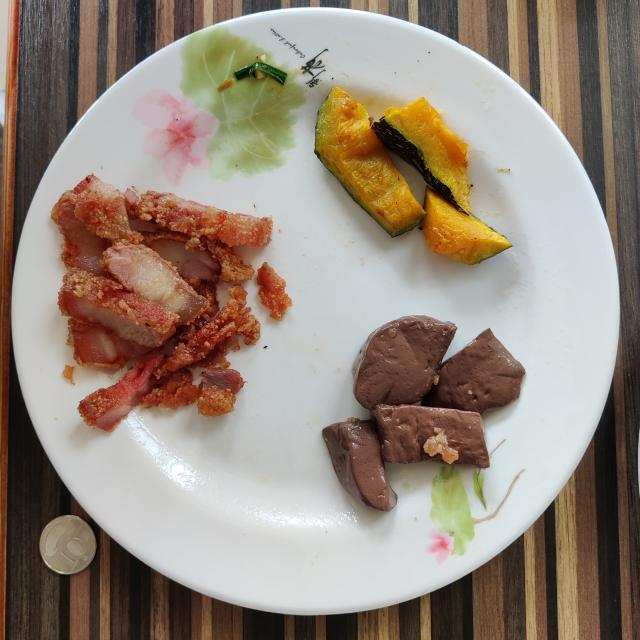coin: (39, 515, 96, 575)
pig blood curd: (322, 316, 525, 511)
pumpkin: (315, 88, 510, 264)
red grilled pork: (51, 175, 272, 431), (258, 262, 292, 320)
